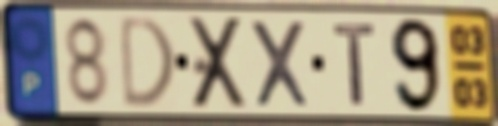8: (61, 15, 114, 110)
9: (387, 15, 446, 115)
D: (117, 12, 177, 113)
T: (330, 21, 380, 109)
X: (246, 16, 314, 111), (187, 14, 252, 112)
